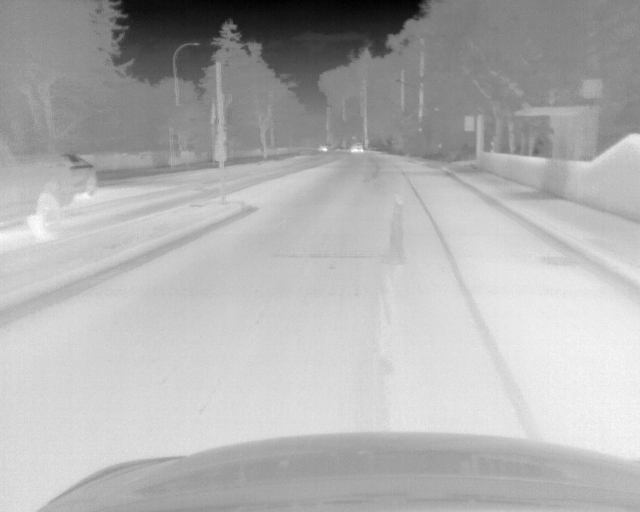car: (1, 139, 75, 239), (68, 154, 96, 199), (348, 143, 362, 153), (316, 143, 328, 153)
